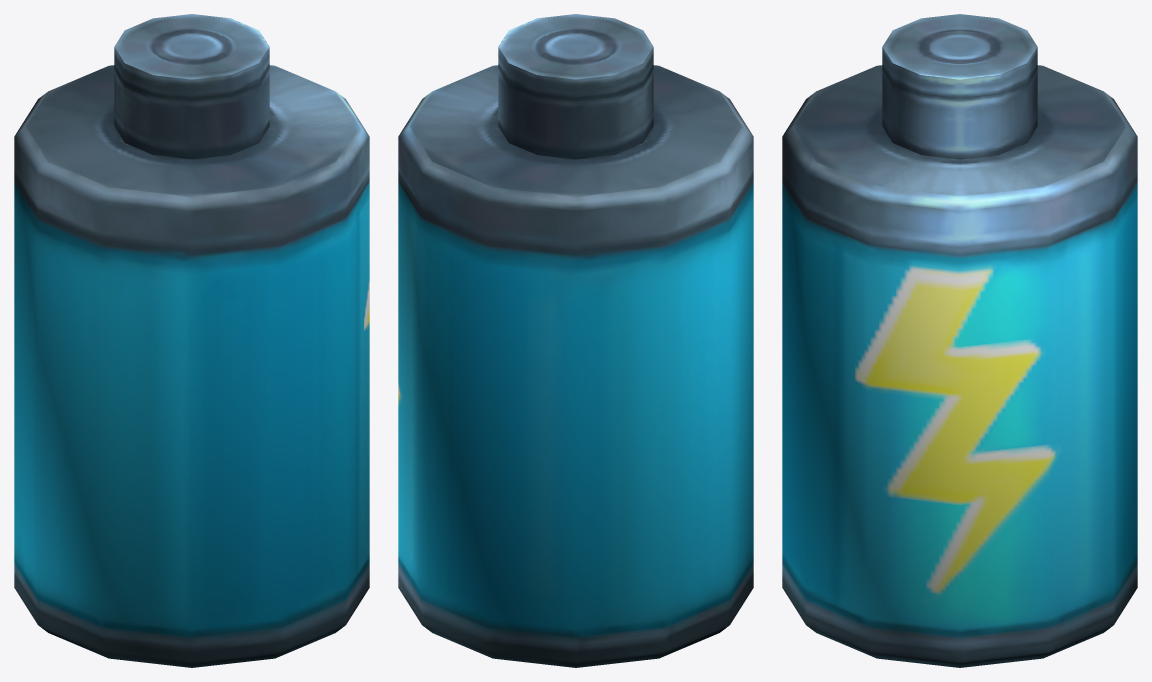
File: Power.FBX
The picture shows the model from 3 angles, left to right: view 1: azimuth 30°, elevation 25°; view 2: azimuth 150°, elevation 25°; view 3: azimuth 270°, elevation 25°; orthographic projection.
Visible parts, largest first — view 1: dianchi_01; view 2: dianchi_01; view 3: dianchi_01.
Part boxes in pixels (x1=…): dianchi_01: x1=14, y1=14, x2=369, y2=667; dianchi_01: x1=398, y1=14, x2=753, y2=667; dianchi_01: x1=782, y1=14, x2=1137, y2=667.
Bounding box in the file's own units: 23.97 × 40.98 × 23.97.
